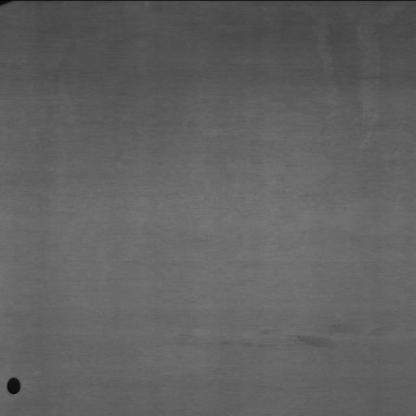oil_spot: (283, 321, 372, 349)
punching_hole: (4, 376, 23, 396)
